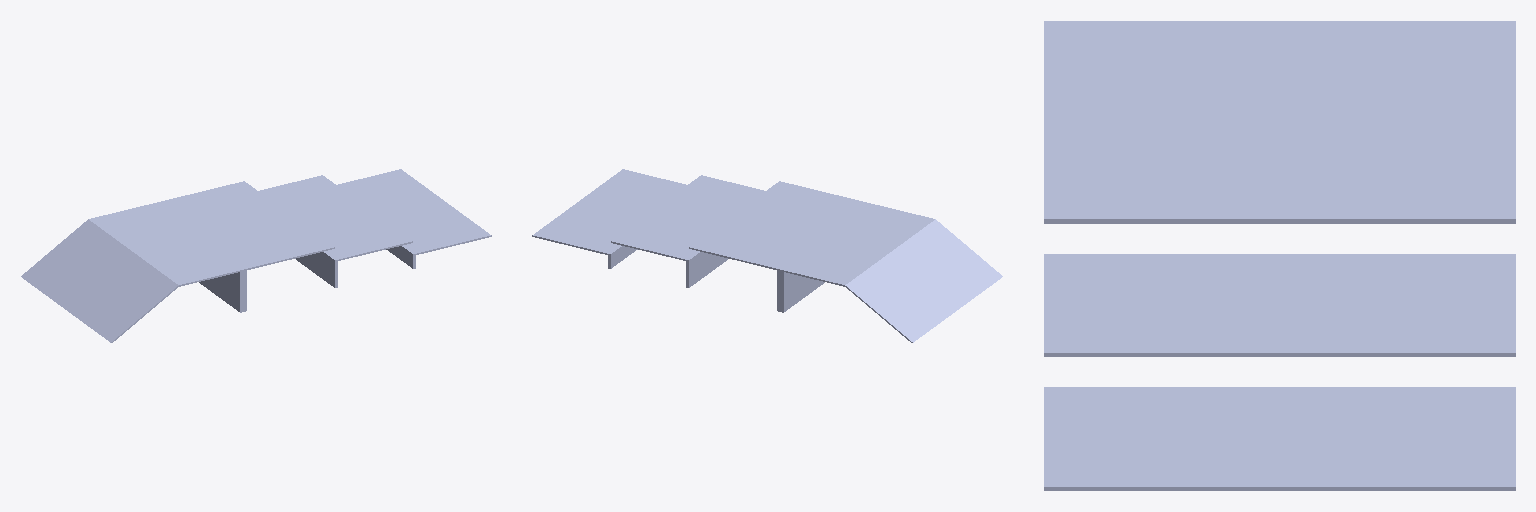
The robot description file, URDF, robot "map30lendoc":
<?xml version="1.0" encoding="utf-8"?>
<!-- This URDF was automatically created by SolidWorks to URDF Exporter! Originally created by [author] ([email redacted]) 
     Commit Version: 1.6.0-1-g15f4949  Build Version: 1.6.7594.29634
     For more information, please see http://wiki.ros.org/sw_urdf_exporter -->
<robot
  name="map30lendoc">
  <link
    name="base_link">
    <inertial>
      <origin
        xyz="0.239885077654854 -2.22044604925031E-16 -0.104336361493945"
        rpy="0 0 0" />
      <mass
        value="39.0165244785435" />
      <inertia
        ixx="3.44501827507821"
        ixy="-2.87479825472873E-15"
        ixz="-0.279193037384728"
        iyy="3.07493075763285"
        iyz="5.96277564803307E-17"
        izz="6.1326665623119" />
    </inertial>
    <visual>
      <origin
        xyz="0 0 0"
        rpy="0 0 0" />
      <geometry>
        <mesh
          filename="package://map30lendoc/meshes/base_link.STL" />
      </geometry>
      <material
        name="">
        <color
          rgba="0.792156862745098 0.819607843137255 0.933333333333333 1" />
      </material>
    </visual>
    <collision>
      <origin
        xyz="0 0 0"
        rpy="0 0 0" />
      <geometry>
        <mesh
          filename="package://map30lendoc/meshes/base_link.STL" />
      </geometry>
    </collision>
  </link>
</robot>

--- Render facts (derived) ---
The picture shows the robot from 3 angles, left to right: view 1: azimuth 30°, elevation 25°; view 2: azimuth 150°, elevation 25°; view 3: azimuth 270°, elevation 25°; orthographic projection.
Robot: map30lendoc — 1 links, 0 joints (none); root link base_link; default pose: every joint at zero.
Visible links, largest first — view 1: base_link; view 2: base_link; view 3: base_link.
Link boxes in pixels (bbox=[...]): base_link: bbox=[21, 169, 491, 342]; base_link: bbox=[532, 169, 1002, 342]; base_link: bbox=[1044, 21, 1515, 490].
Bounding box of the posed robot: 2.43 × 1 × 0.26 m (x, y, z).
1 mesh visuals loaded from 1 distinct referenced files (1 binary STL).